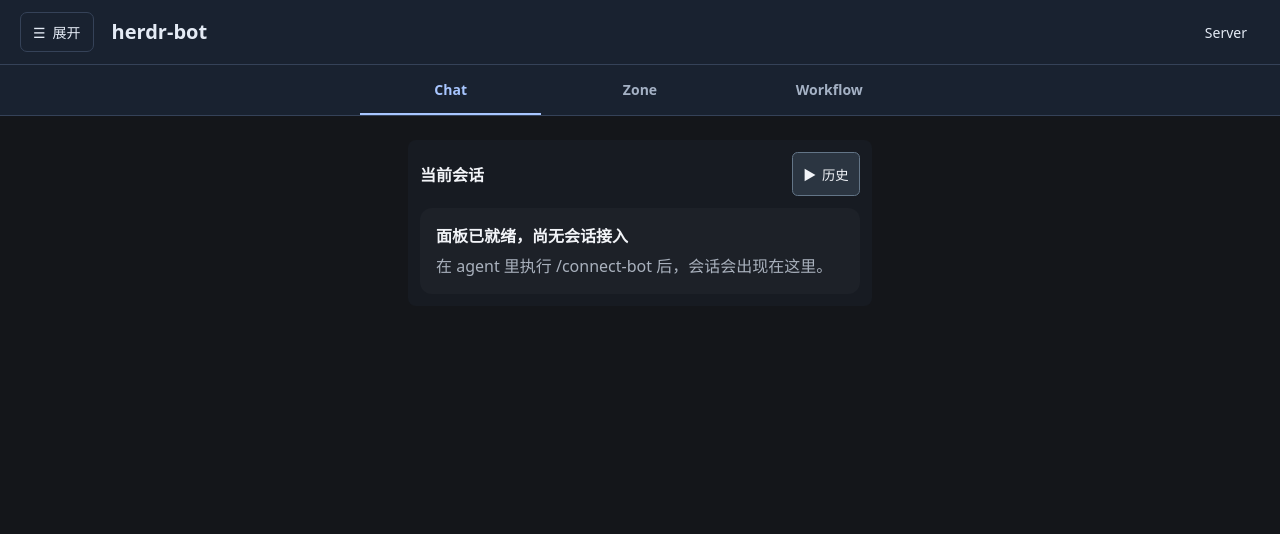
Test case: 文件列表：zone 登记 › 同名末级目录仍是两个独立登记，完整路径保留在浏览入口
Click the tab with test id "tab-files" at (640, 90), box top-left (549, 65), bottom-right (731, 115)
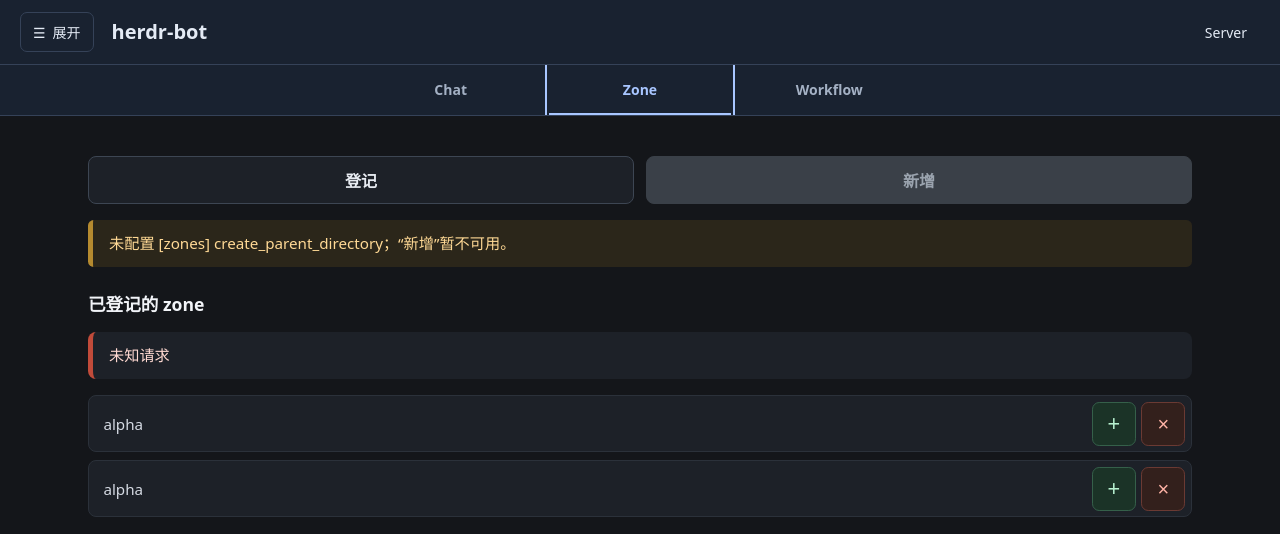
Now the text "alpha" is shown 2 times, box top-left (103, 414), bottom-right (143, 434); top-left (103, 479), bottom-right (143, 499)
Now the button named "浏览 C:\\work\\alpha" is shown, box top-left (95, 402), bottom-right (1086, 446)
Now the button named "浏览 D:\\projects\\alpha" is shown, box top-left (95, 467), bottom-right (1086, 511)
